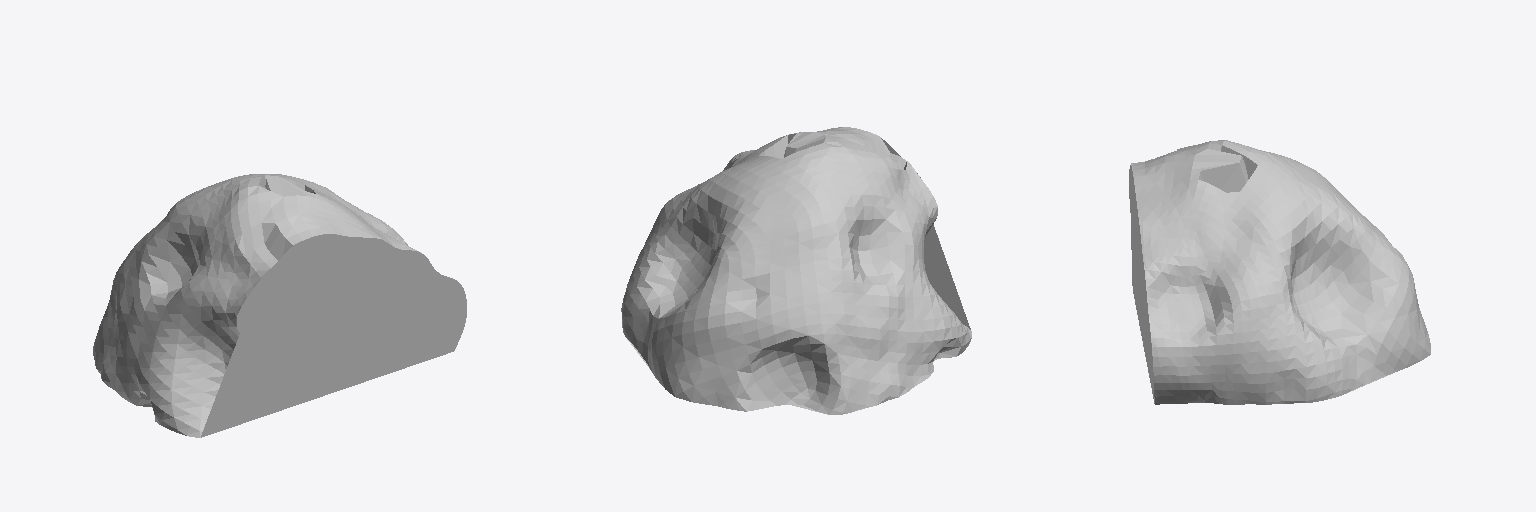
File: AsteroidThird1.obj
3 views of the same model, side by side, from view 1: azimuth 30°, elevation 25°; view 2: azimuth 150°, elevation 25°; view 3: azimuth 270°, elevation 25° (orthographic).
Parts seen in each view (by area): view 1: asteroid.001; view 2: asteroid.001; view 3: asteroid.001.
Part boxes in pixels (x1,y1,x2,y2): asteroid.001: (93, 174, 466, 437); asteroid.001: (621, 127, 971, 414); asteroid.001: (1129, 140, 1430, 404).
Bounding box in the file's own units: 1.06 × 0.6707 × 0.935.